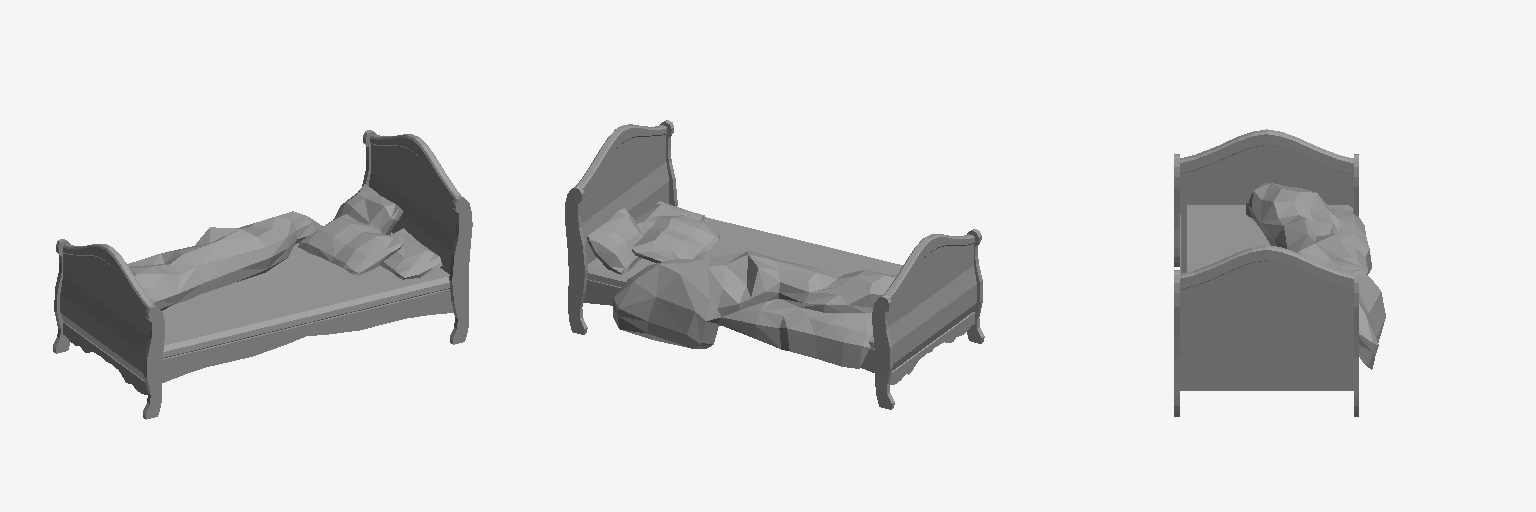
File: bed.obj
The picture shows the model from 3 angles: view 1: azimuth 30°, elevation 25°; view 2: azimuth 150°, elevation 25°; view 3: azimuth 270°, elevation 25°; orthographic projection.
Size of the model in its own units: 4.13 by 2.06 by 2.32.